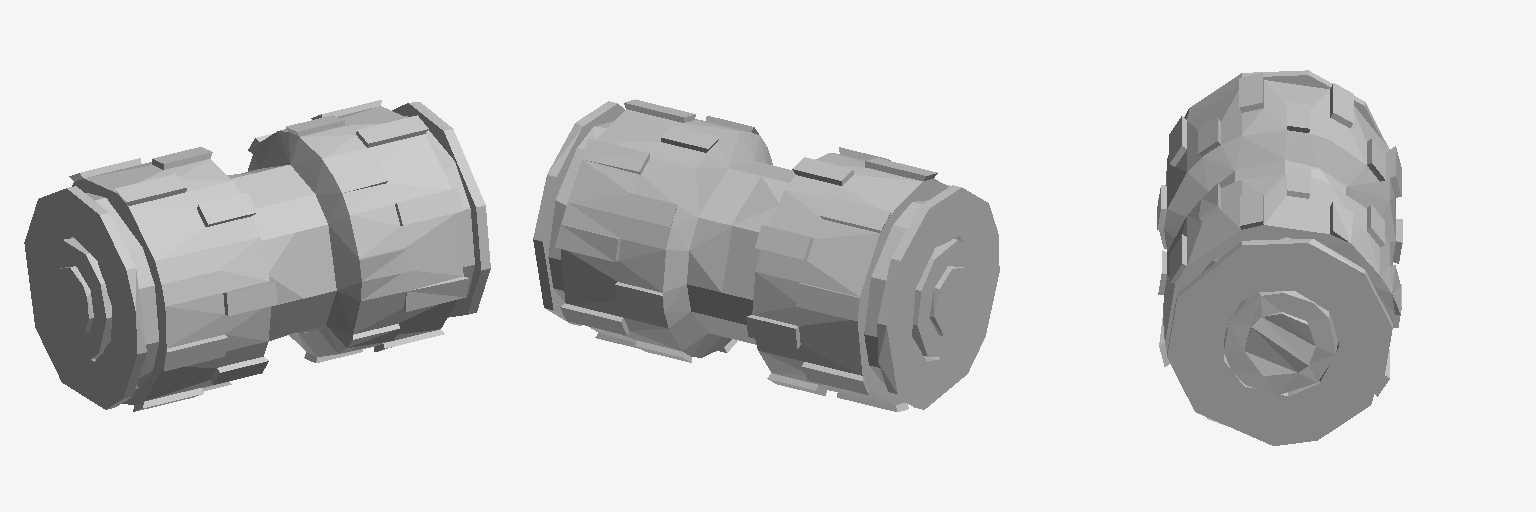
Rendered from Kola_000018.obj.
3 views of the same model, side by side, from view 1: azimuth 30°, elevation 25°; view 2: azimuth 150°, elevation 25°; view 3: azimuth 270°, elevation 25° (orthographic).
Parts seen in each view (by area): view 1: Cylinder.004; view 2: Cylinder.004; view 3: Cylinder.004.
Part boxes in pixels (x1,y1,x2,y2): Cylinder.004: (24,100,490,411); Cylinder.004: (533,99,999,411); Cylinder.004: (1157,70,1402,445).
Size of the model in its own units: 2.17 by 1.25 by 1.25.